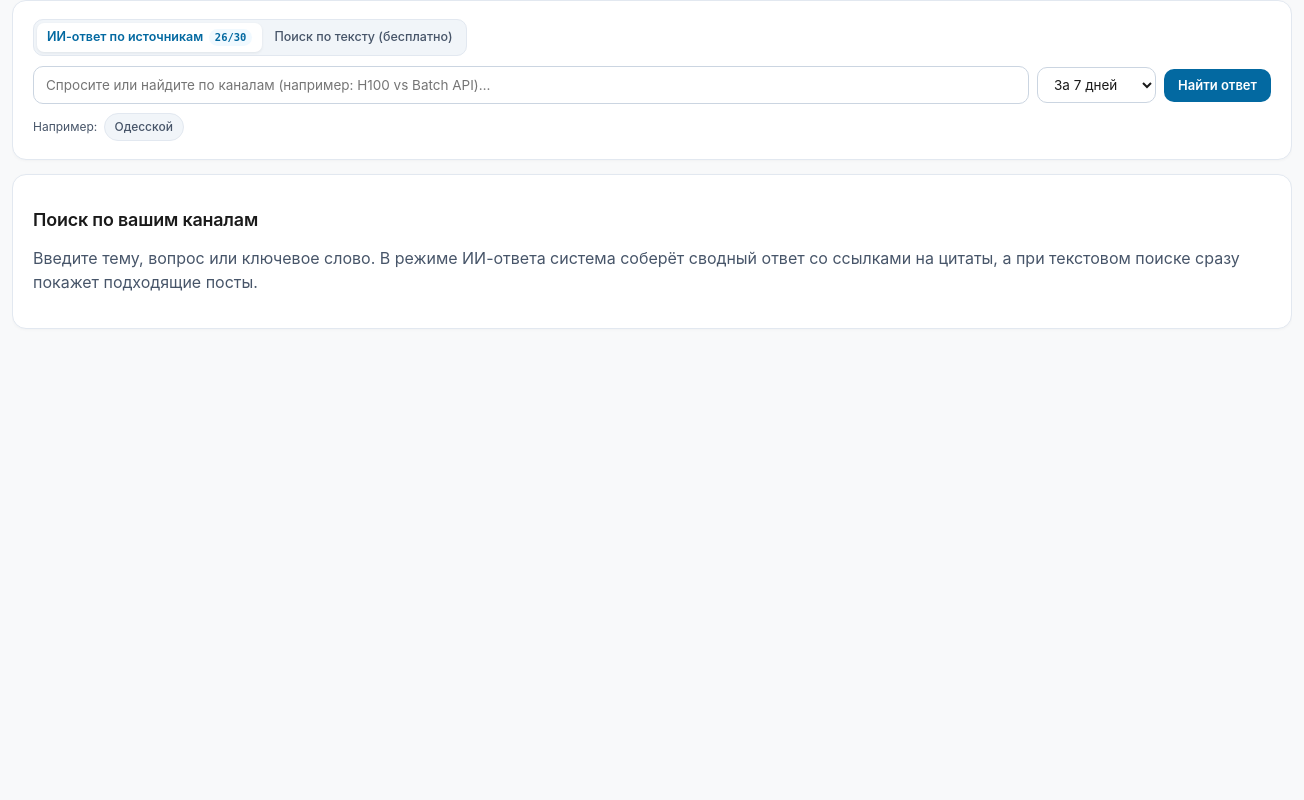
it: Zero-Trust Onboarding, Channel/Addlist Parser & Toggle View UI (SPEC 5.1, 5.2) › parses event: direct_answer, renders indirect direct-answer-card, and deduplicates duplicate post badges
Replace the text in the search field named "Поисковый запрос" with "украина сдалась в войне?" at (531, 85), box [33,66,1029,104]
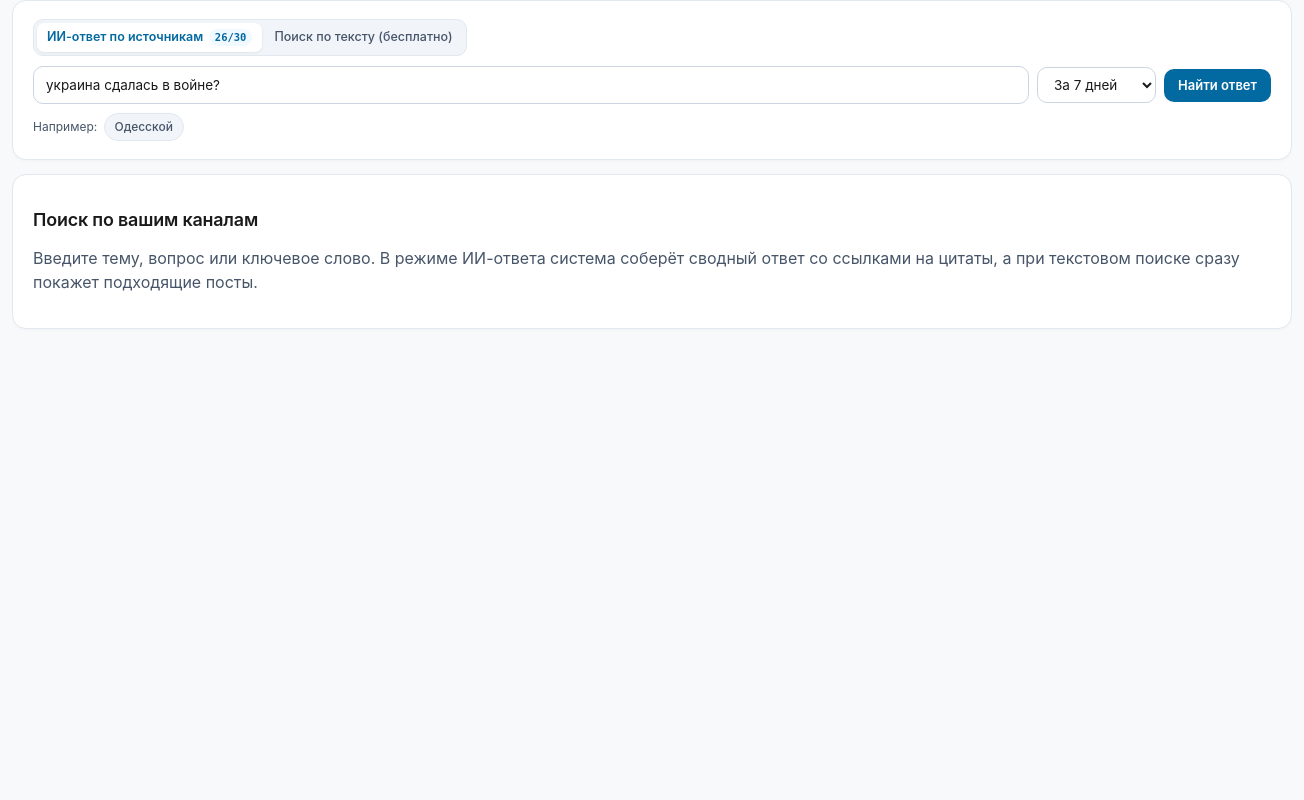
Submit the form named "Поисковый запрос", box [33,66,1271,104]
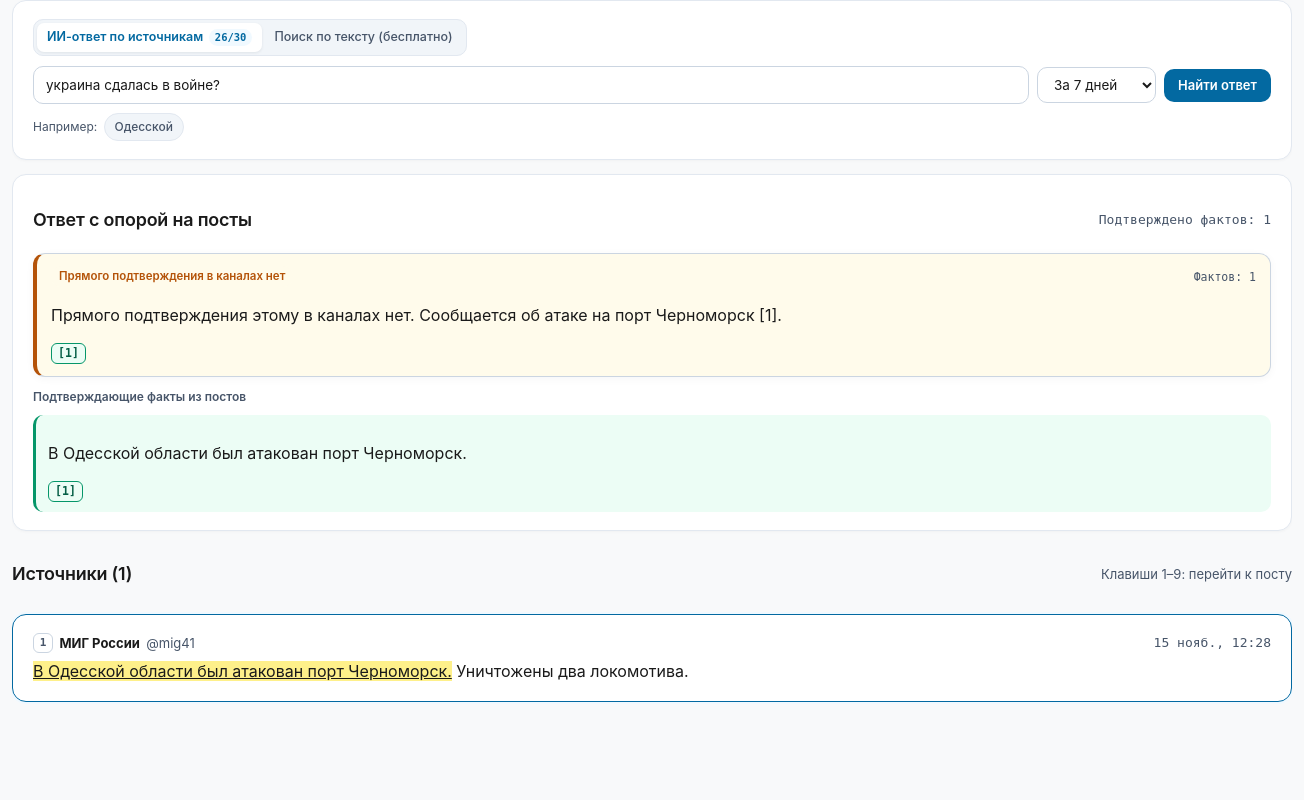
Now the element with test id "direct-answer-card" shows "Прямого подтверждения в каналах нет", box [59,269,285,283]
Now the element with test id "direct-answer-card" shows "Прямого подтверждения этому в каналах нет.", box [51,305,782,325]
